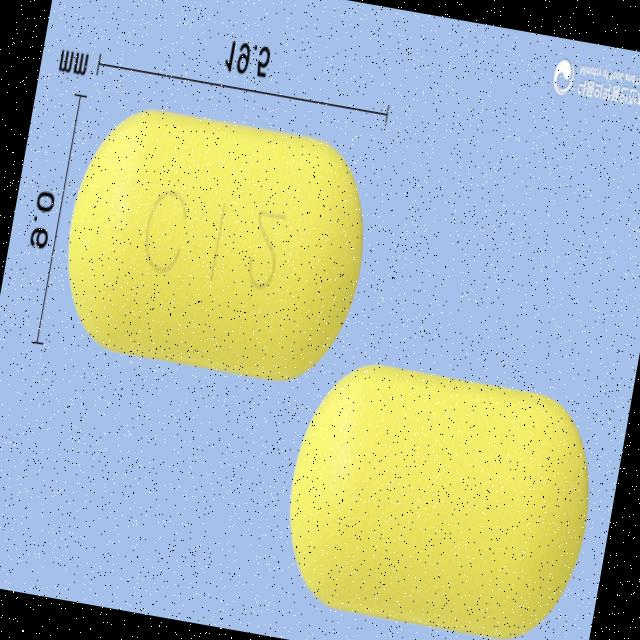Clomycin: (49, 98, 382, 394)
